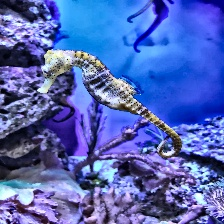seahorse: (6, 45, 182, 178)
